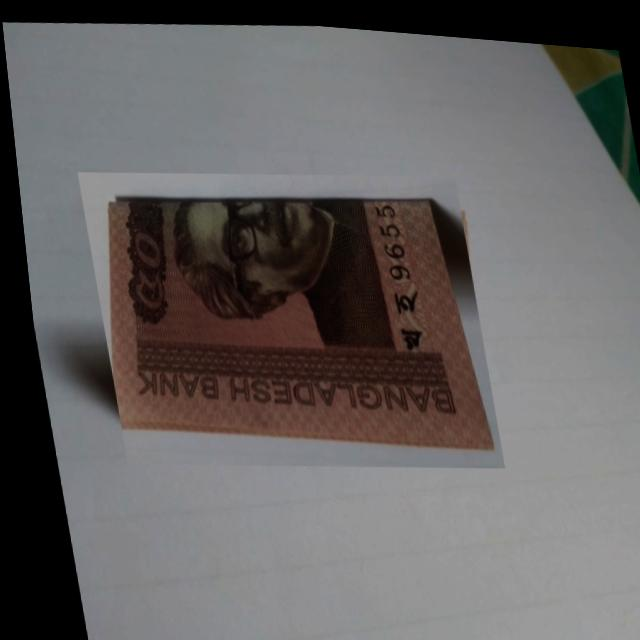Taka: (71, 144, 497, 486)
